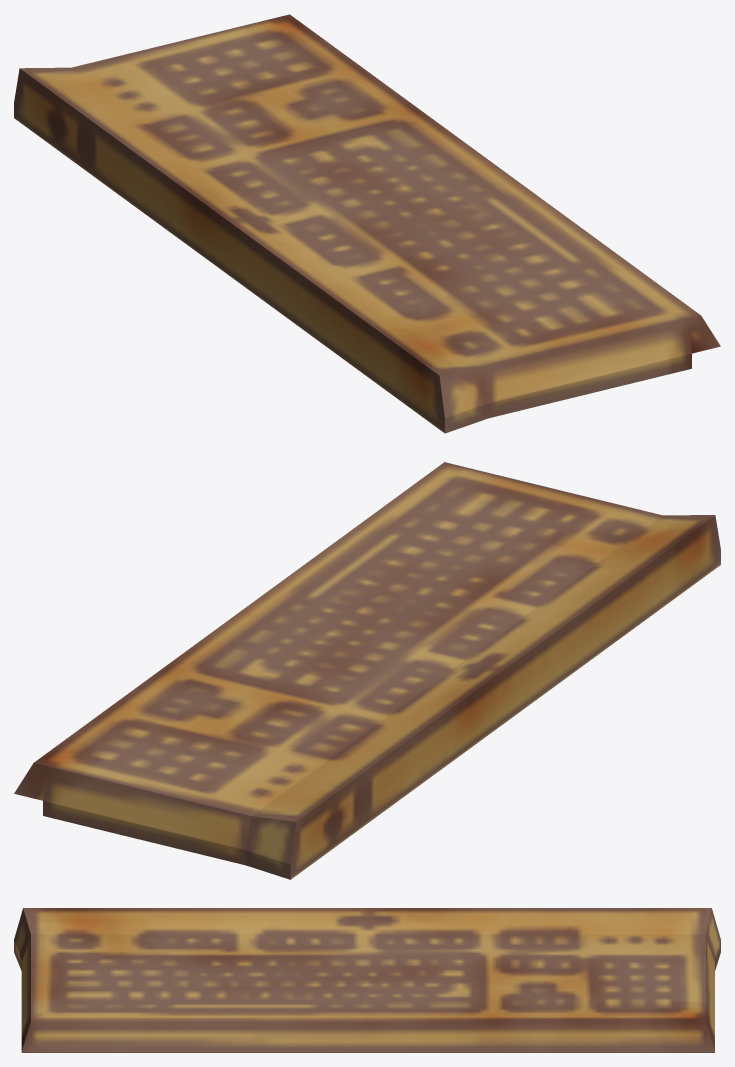
Rendered from keyboard.glb.
The picture shows the model from 3 angles, top to bottom: view 1: azimuth 30°, elevation 25°; view 2: azimuth 150°, elevation 25°; view 3: azimuth 270°, elevation 25°; orthographic projection. The views are drawn at different scales.
Visible parts, largest first — view 1: Cube; view 2: Cube; view 3: Cube.
Boxes of the visible parts, x1=… form: Cube: x1=14, y1=14, x2=720, y2=433; Cube: x1=14, y1=462, x2=720, y2=879; Cube: x1=14, y1=908, x2=720, y2=1052.
Bounding box in the file's own units: 0.1895 × 0.0348 × 0.504.
1 material, 1 textured.
